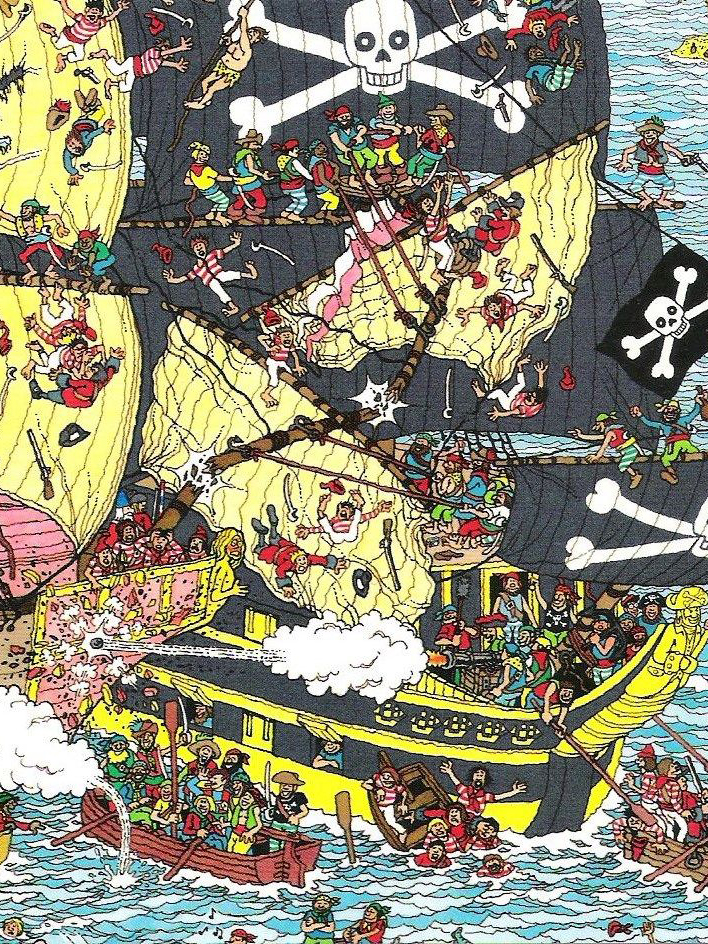waldo: (619, 591, 643, 620)
